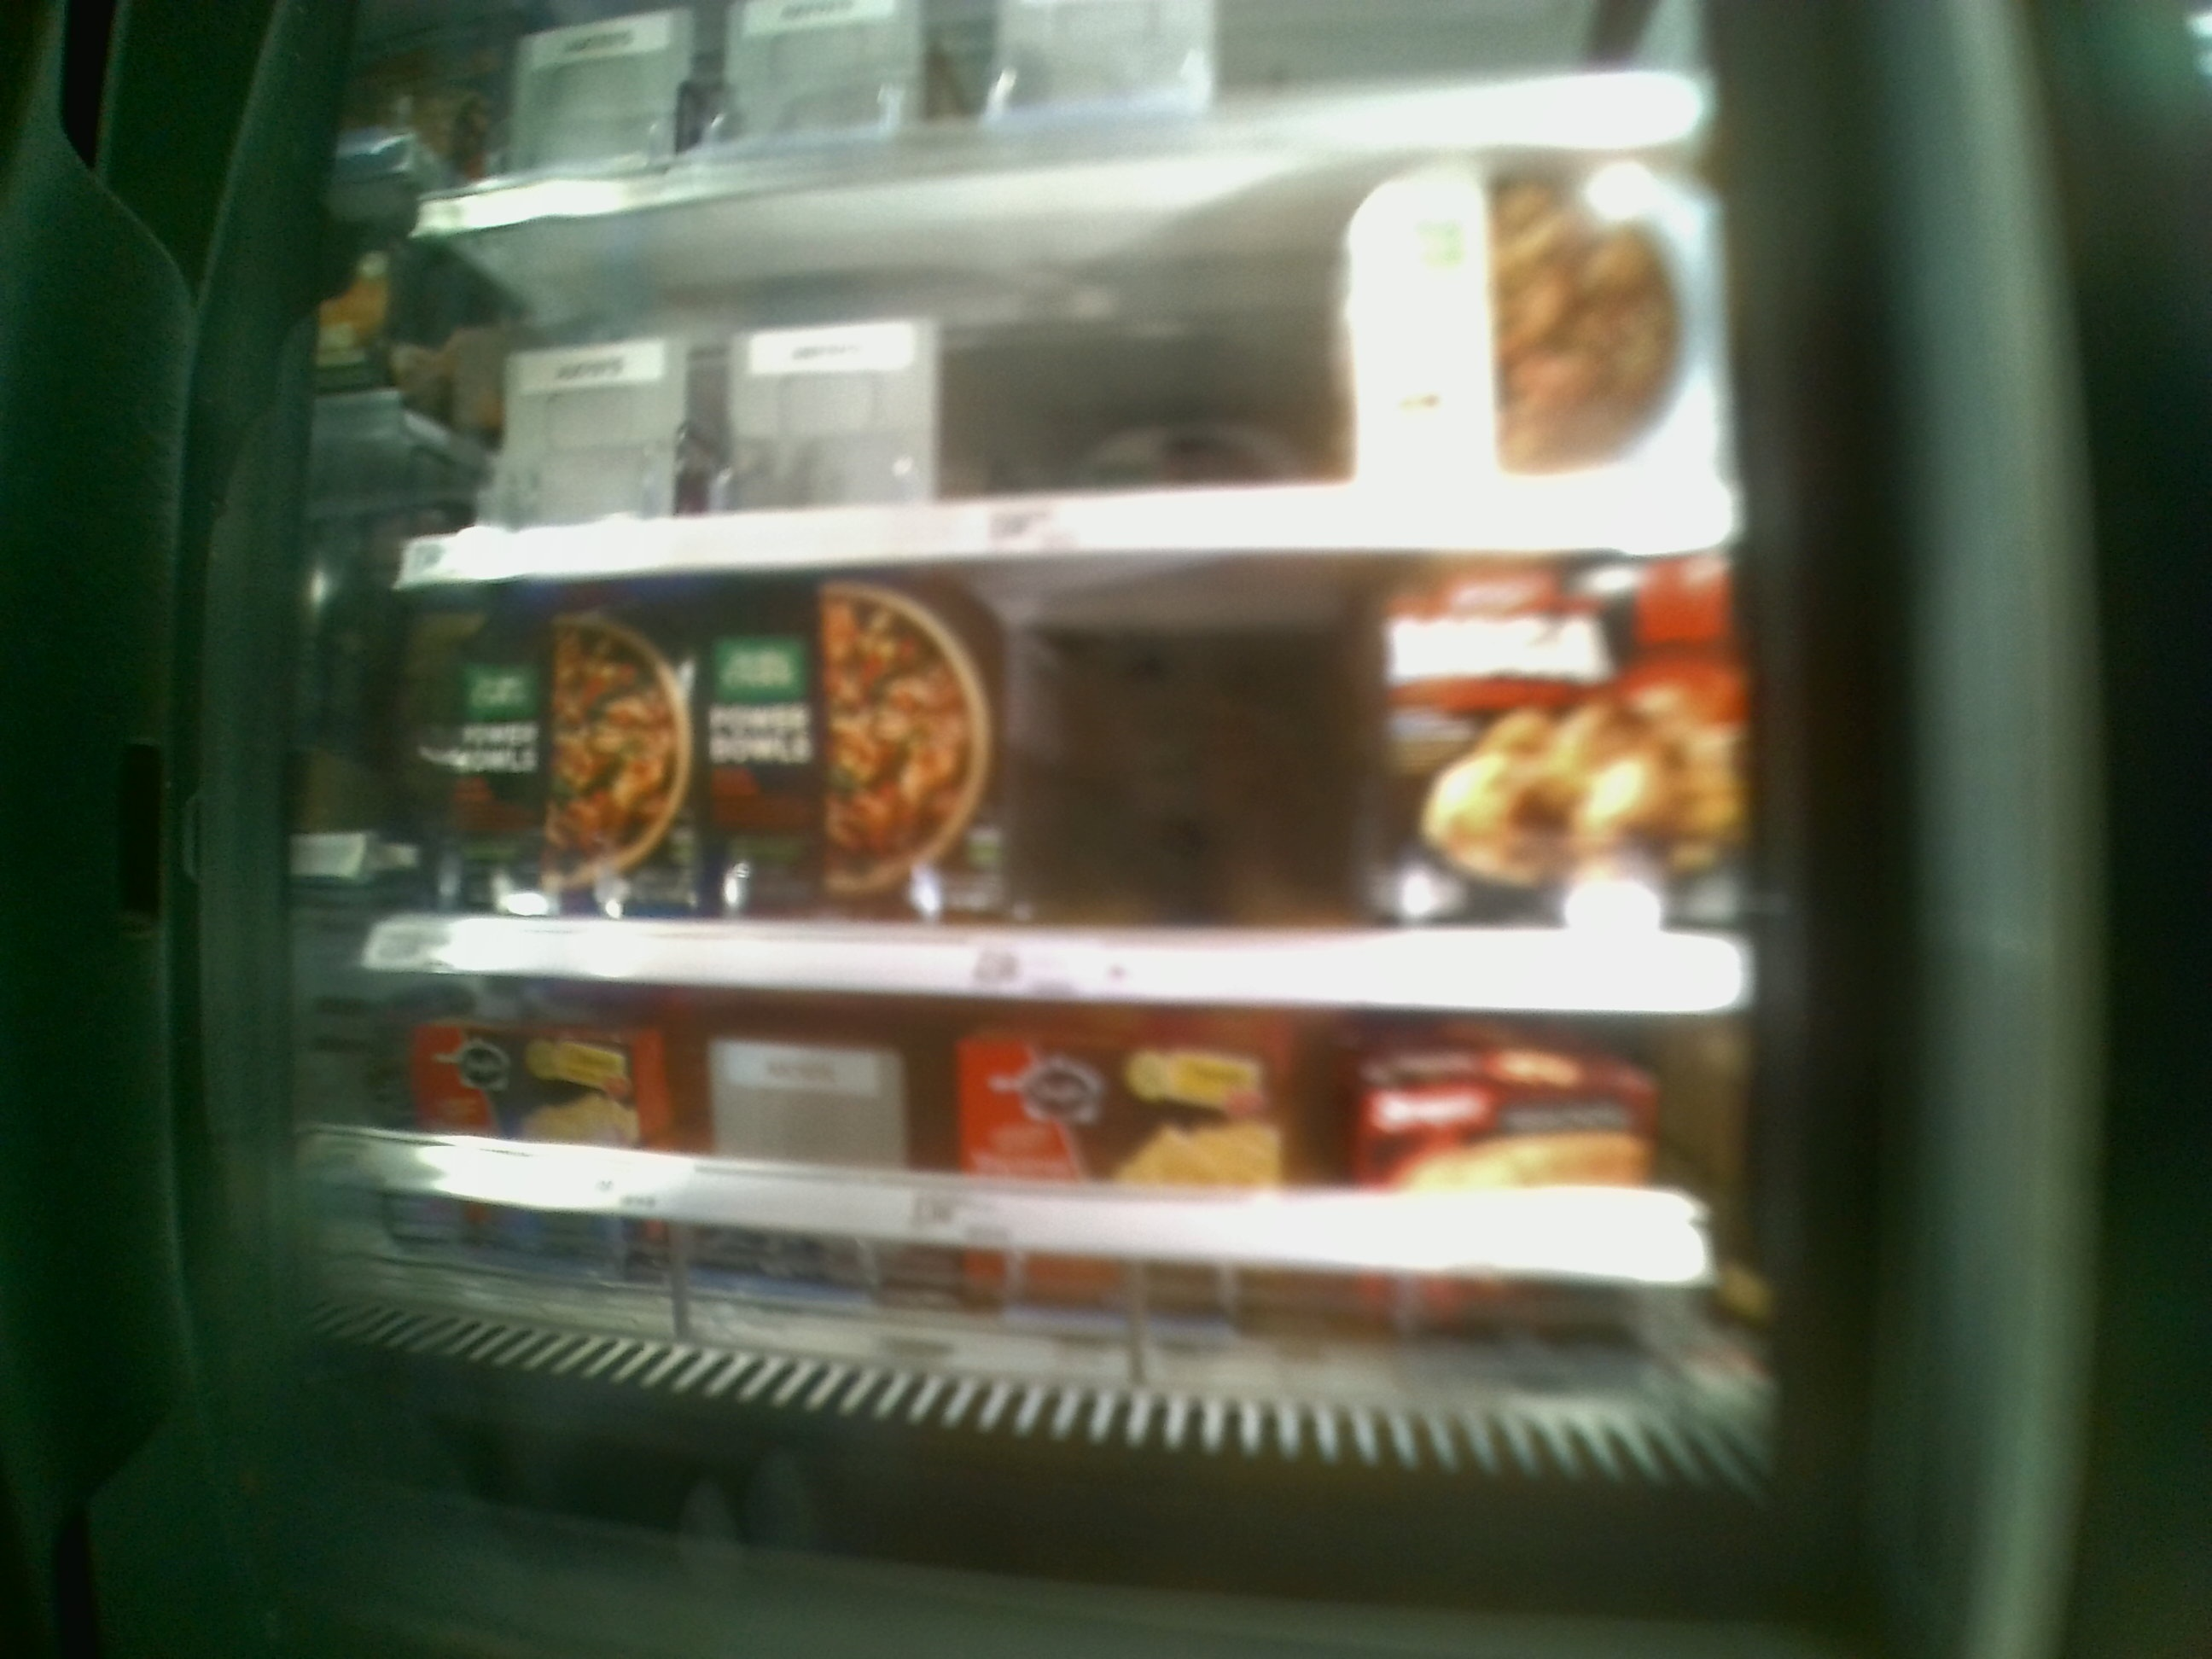Shelf: (340, 979, 1749, 1434), (376, 551, 1757, 1012)
